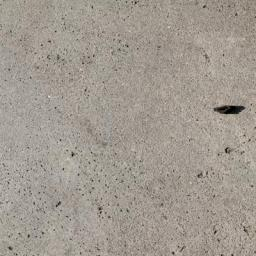FOD: (211, 103, 245, 119)
